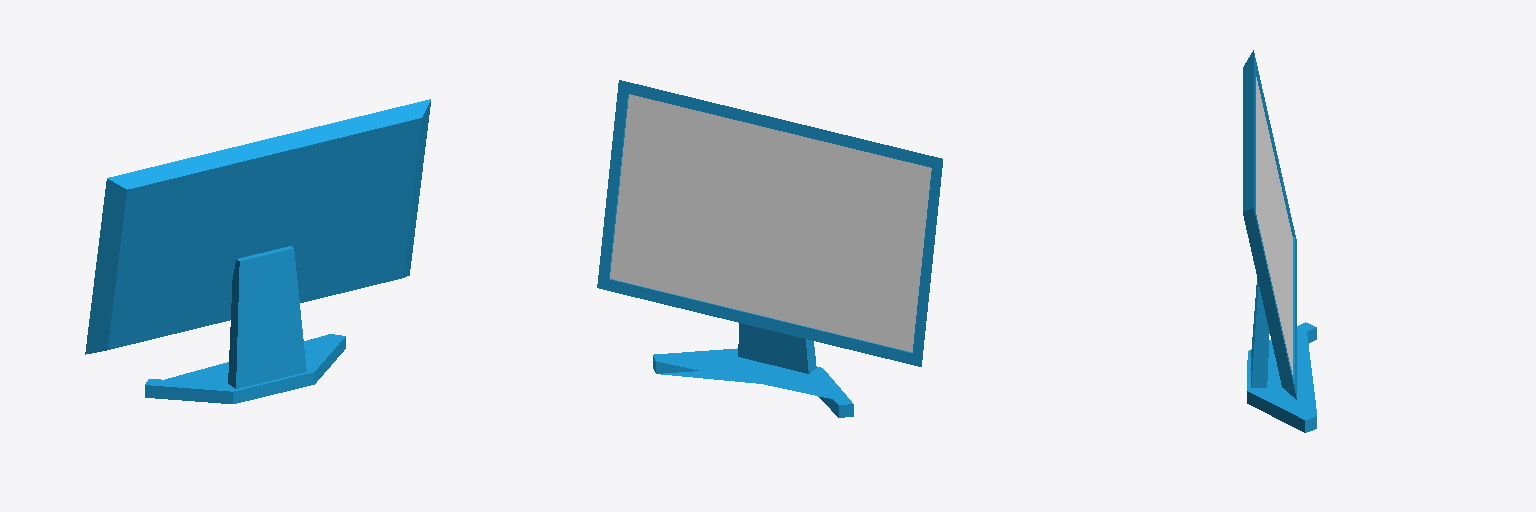
File: Team_small_computer.obj
The picture shows the model from 3 angles: view 1: azimuth 30°, elevation 25°; view 2: azimuth 150°, elevation 25°; view 3: azimuth 270°, elevation 25°; orthographic projection.
Parts seen in each view (by area): view 1: Team_small_computer; view 2: Team_small_computer; view 3: Team_small_computer.
Boxes of the visible parts, x1=… form: Team_small_computer: x1=85, y1=99, x2=430, y2=403; Team_small_computer: x1=597, y1=80, x2=942, y2=417; Team_small_computer: x1=1243, y1=50, x2=1316, y2=432.
Size of the model in its own units: 21.79 by 16.31 by 4.35.